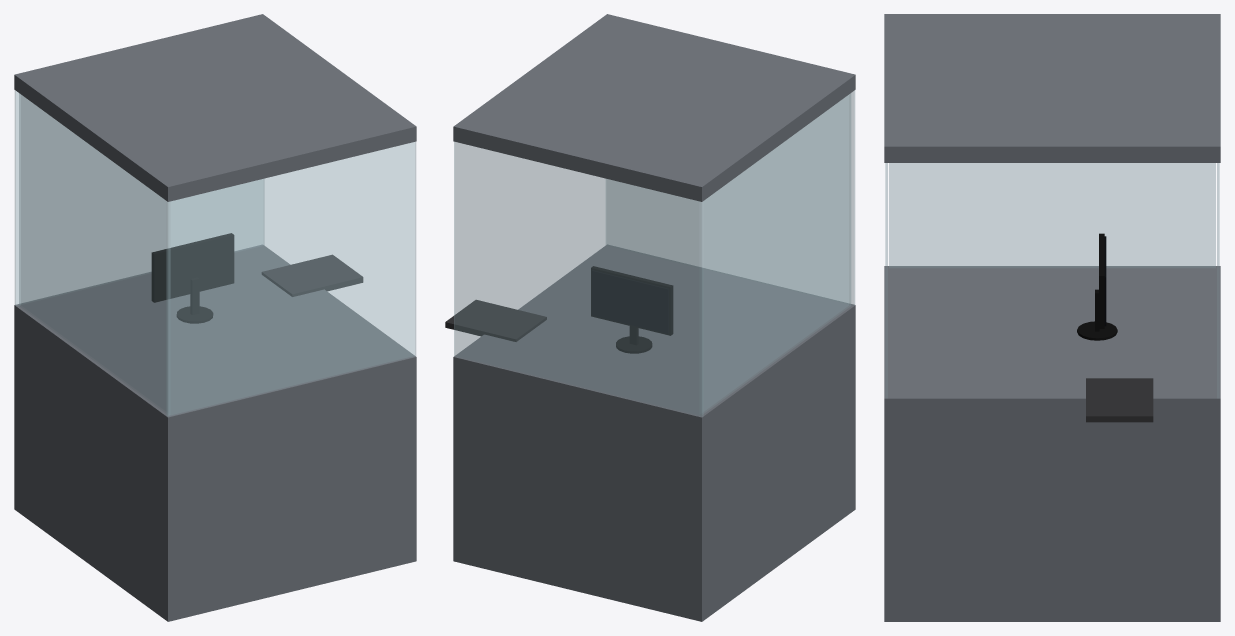
The model's file is airport.security.passport_booth.glb.
3 renders of one model, left to right at view 1: azimuth 30°, elevation 25°; view 2: azimuth 150°, elevation 25°; view 3: azimuth 270°, elevation 25°, orthographic. The views are drawn at different scales.
Visible parts, largest first — view 1: main__laminate_grey, main__glass, main__plastic_black, main__worktop; view 2: main__laminate_grey, main__glass, main__screen, main__worktop, main__plastic_black; view 3: main__laminate_grey, main__glass, main__worktop, main__plastic_black.
Part boxes in pixels (x1=…): main__laminate_grey: x1=14, y1=14, x2=416, y2=621; main__glass: x1=15, y1=90, x2=415, y2=416; main__plastic_black: x1=151, y1=233, x2=234, y2=323; main__worktop: x1=261, y1=254, x2=363, y2=296; main__laminate_grey: x1=453, y1=14, x2=855, y2=621; main__glass: x1=454, y1=90, x2=854, y2=416; main__screen: x1=592, y1=270, x2=668, y2=333; main__worktop: x1=445, y1=300, x2=546, y2=341; main__plastic_black: x1=591, y1=266, x2=673, y2=353; main__laminate_grey: x1=884, y1=14, x2=1220, y2=621; main__glass: x1=885, y1=163, x2=1219, y2=398; main__worktop: x1=1086, y1=378, x2=1153, y2=422; main__plastic_black: x1=1077, y1=233, x2=1117, y2=340.
Size of the model in its own units: 1.62 by 2.34 by 1.5.
